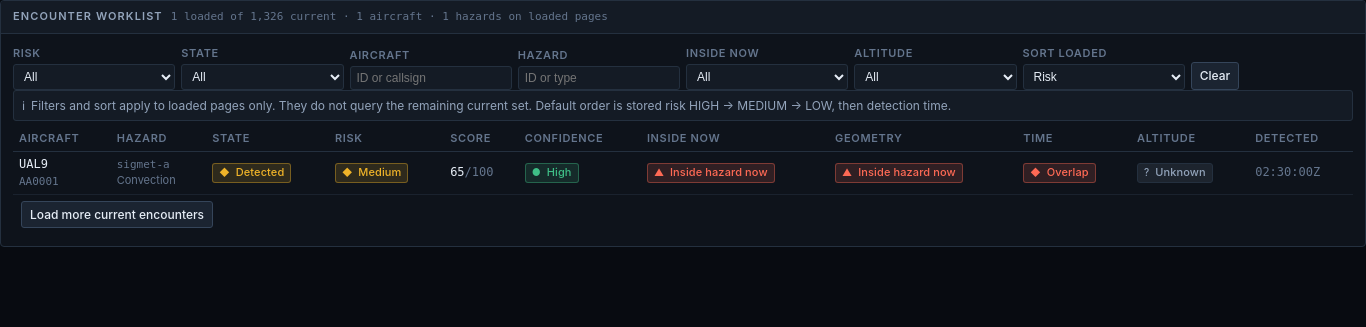
Test: EncounterWorklist › surfaces a pagination failure without dropping the loaded page
Click the button "Load more current encounters" at (117, 214), box [21,200,213,228]
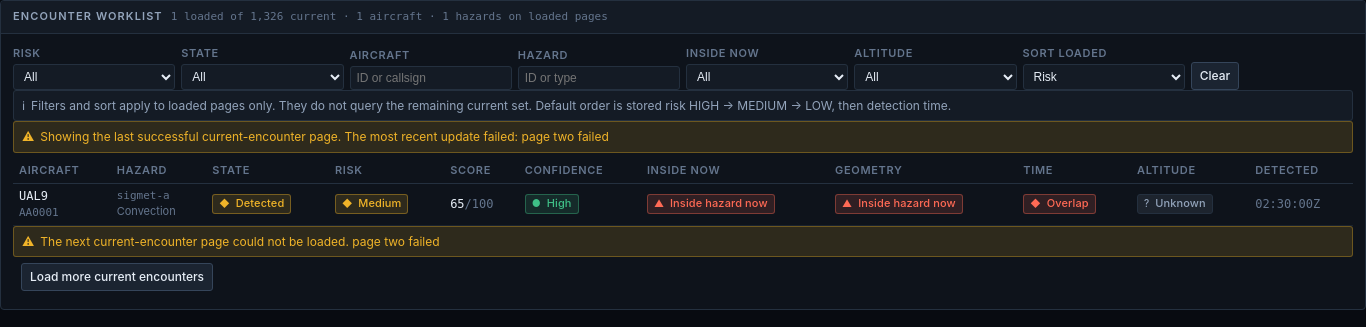
expect the text "UAL9" is shown: met, box [19,189,48,203]
expect the text "The next current-encounter page could not be loaded" is shown: met, box [40,234,349,249]
